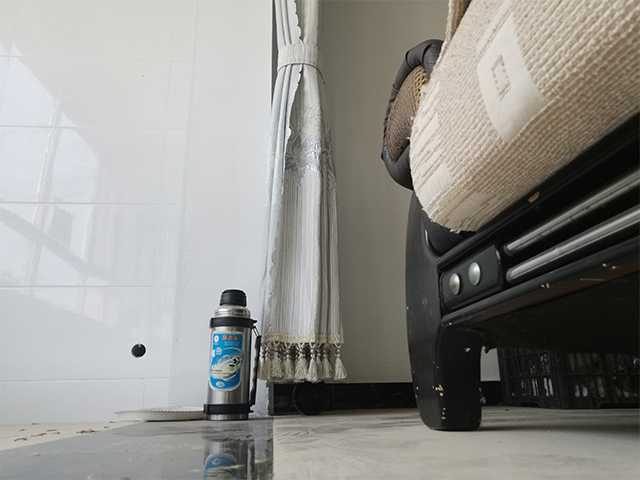curtain: (253, 1, 350, 385)
sofa: (380, 1, 640, 433)
